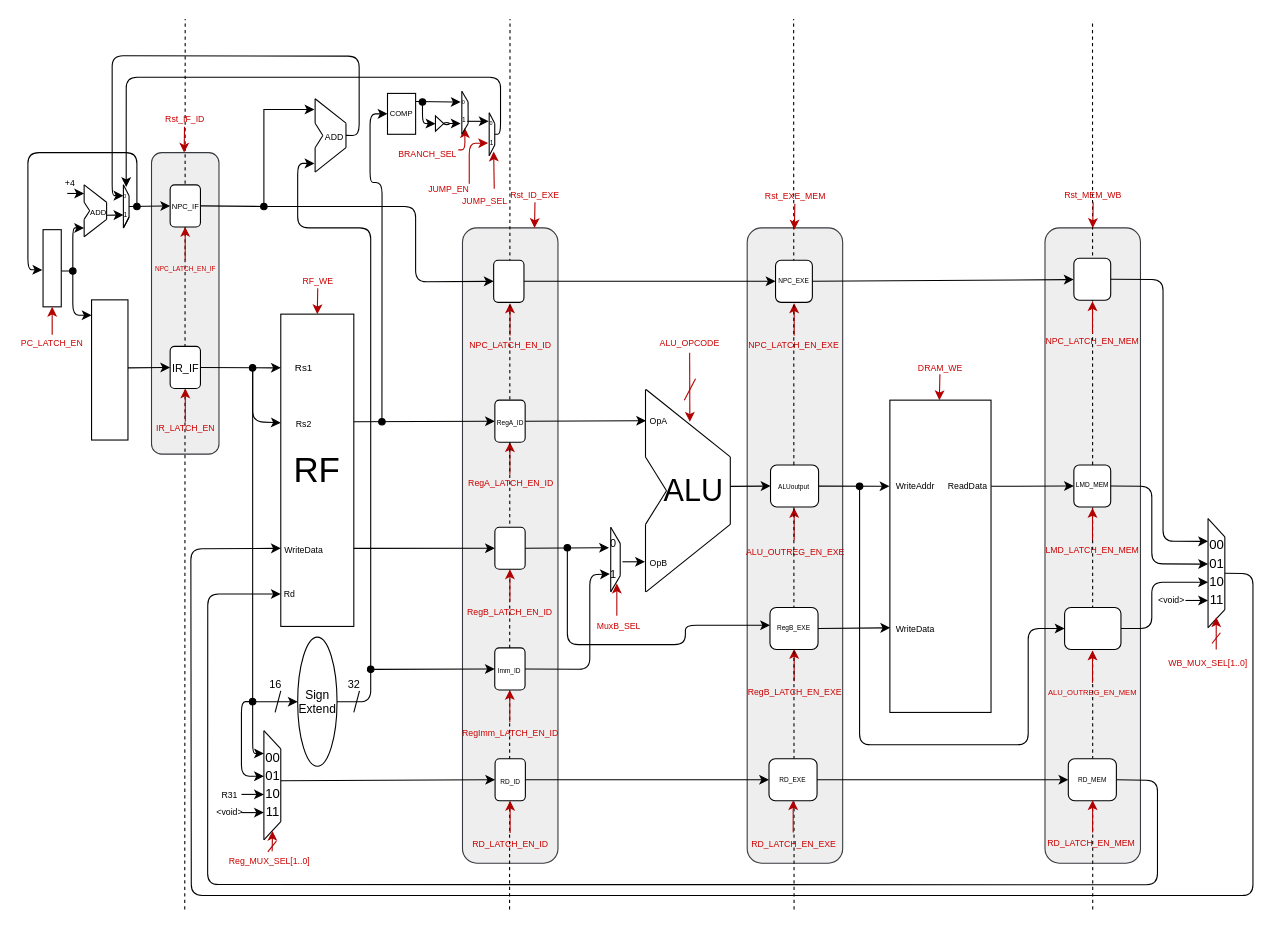
Image size: 1281x930. Some labels were removed from this diagram. Here are the shapes that lost their labels. From the top down, the box of each, then its label:
(42, 229, 61, 307): PC
(493, 259, 524, 302): NPC_ID
(1073, 257, 1111, 300): NPC_MEM
(90, 299, 128, 440): Instruction Memory
(494, 526, 525, 569): RegB_ID
(889, 399, 991, 712): DATA MEMORY
(1064, 606, 1121, 650): AluOutput_MEM
